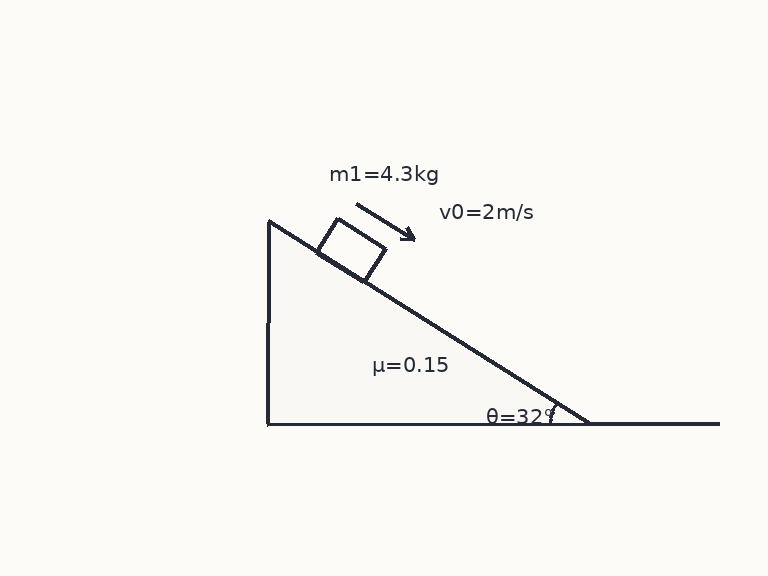block: (314, 216, 387, 284)
ramp: (265, 220, 592, 426)
